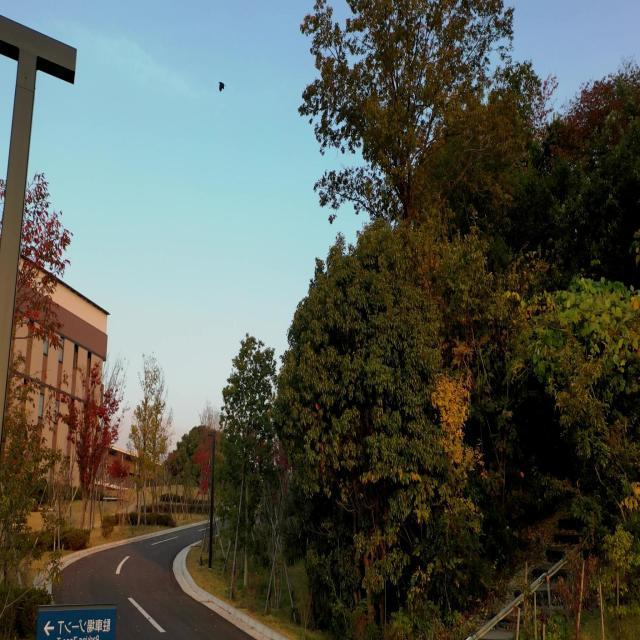Birds: (206, 68, 238, 105)
